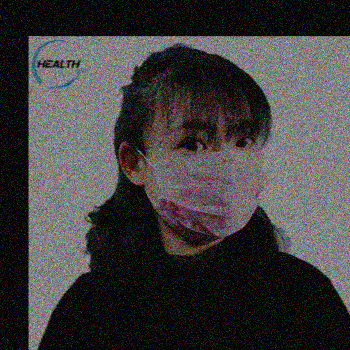with_mask: (146, 114, 267, 240)
